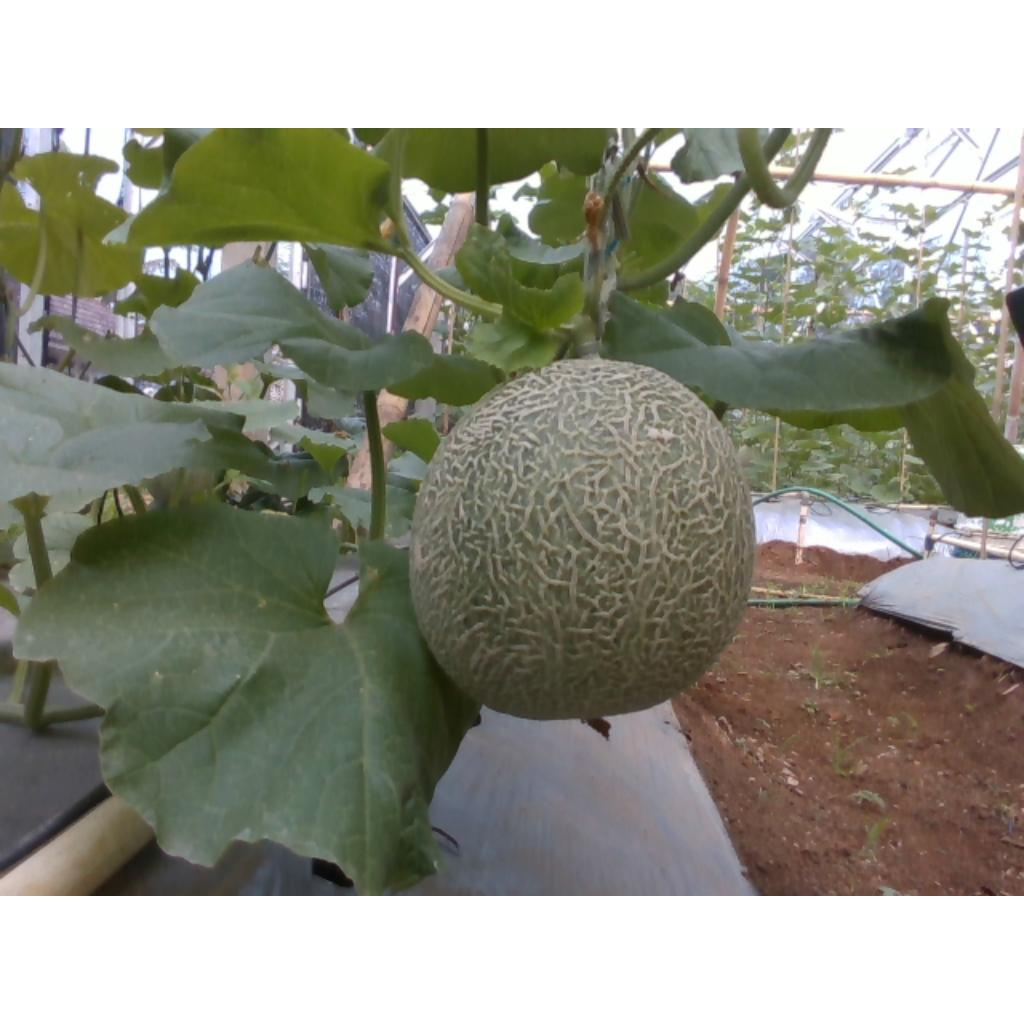melon: (411, 360, 755, 720)
